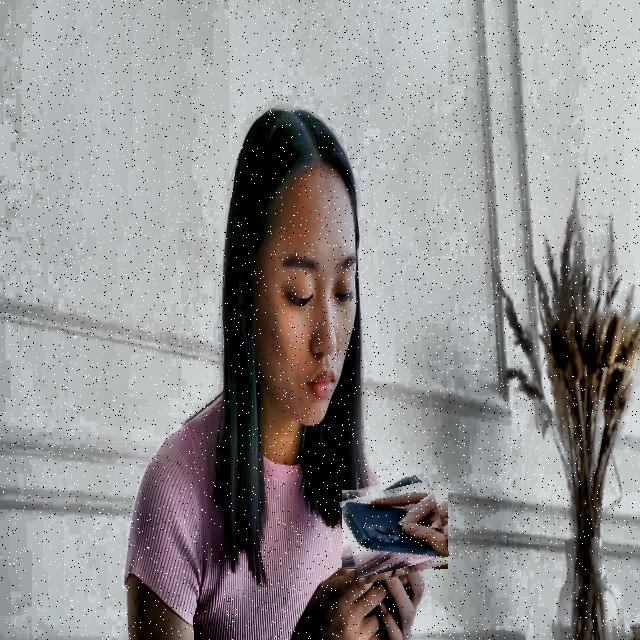Phone: (344, 478, 446, 580)
